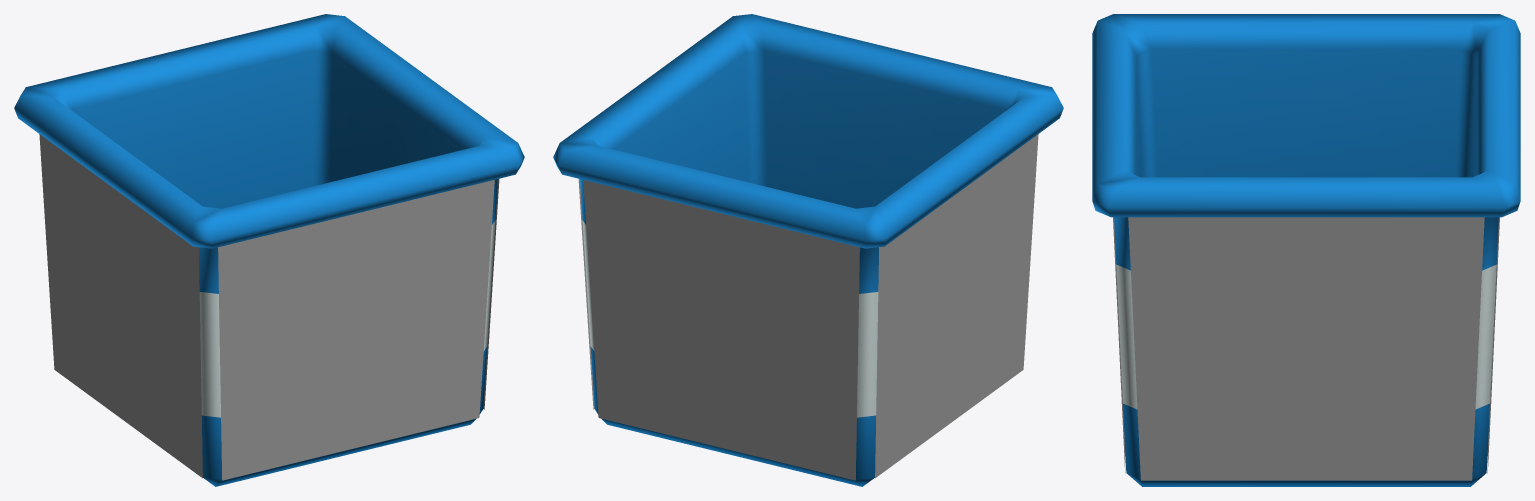
Rendered from SM_IngredientBin.fbx.
3 renders of one model, left to right at view 1: azimuth 30°, elevation 25°; view 2: azimuth 150°, elevation 25°; view 3: azimuth 270°, elevation 25°, orthographic. The views are drawn at different scales.
Parts seen in each view (by area): view 1: polySurface17; view 2: polySurface17; view 3: polySurface17.
Part boxes in pixels (x1,y1,x2,y2): polySurface17: (14, 14, 524, 486); polySurface17: (553, 14, 1063, 486); polySurface17: (1092, 14, 1520, 486).
Size of the model in its own units: 98.53 by 98.53 by 80.51.
